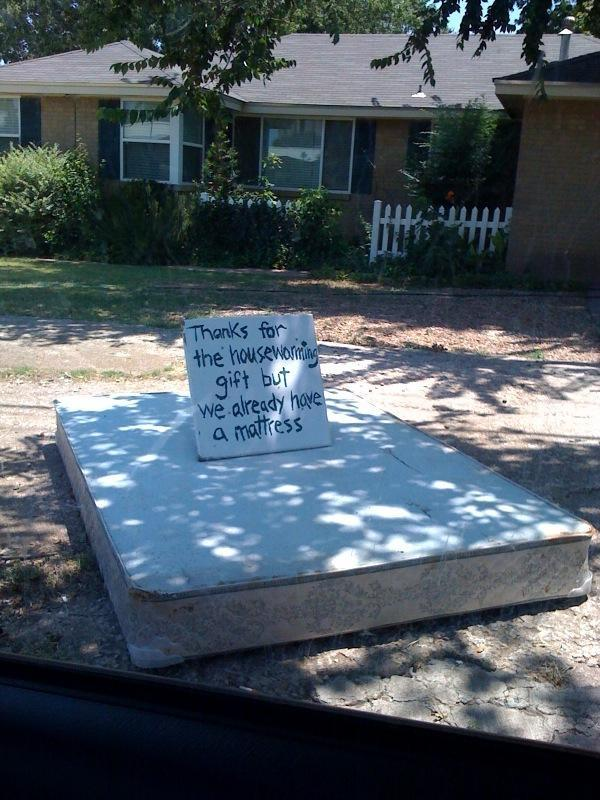Bed-Mattress: (34, 356, 598, 676)
